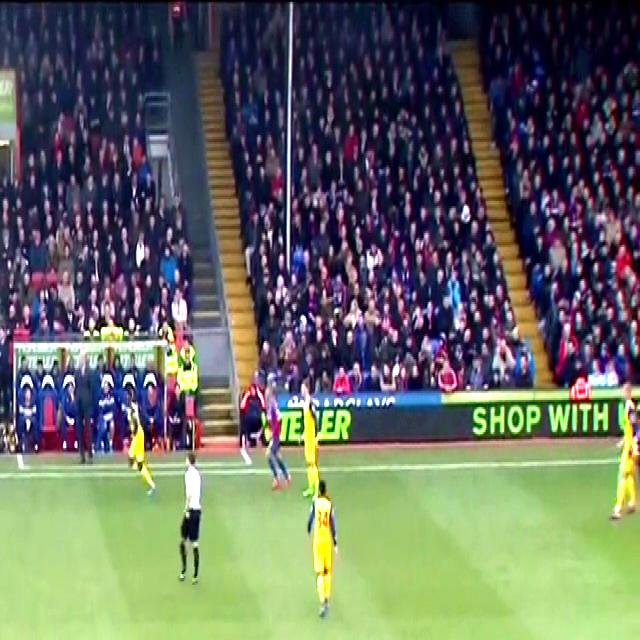referee: (176, 450, 210, 598)
soccer-player: (304, 480, 343, 625), (294, 368, 328, 507), (120, 371, 157, 498), (612, 370, 640, 530), (14, 348, 46, 476), (258, 374, 288, 496)
